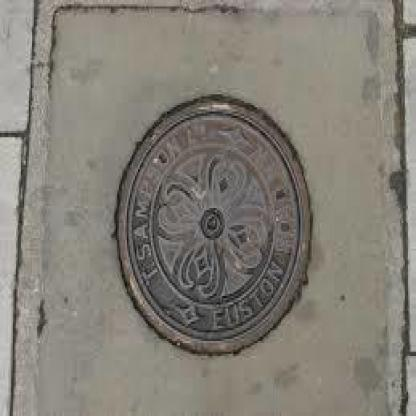manholes: (82, 77, 340, 390)
